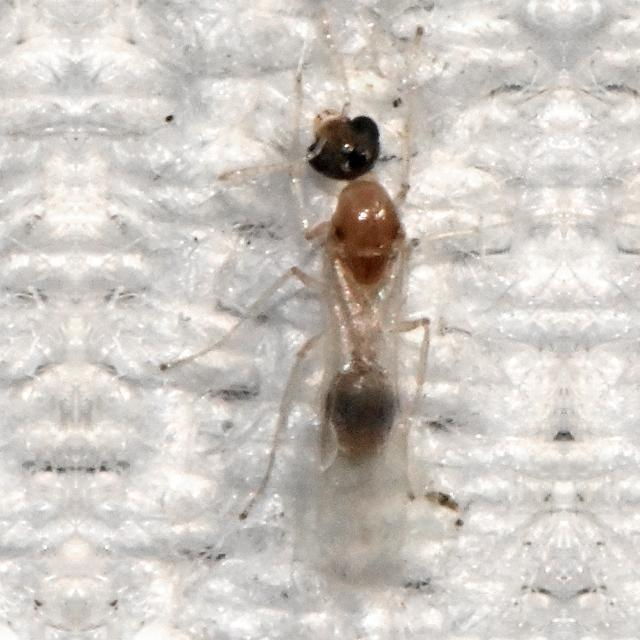Temnothorax: (252, 59, 473, 501)
